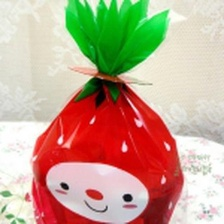snack: (22, 0, 194, 224)
